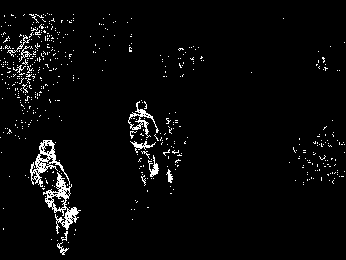person: (30, 139, 80, 256), (128, 99, 161, 187), (159, 113, 190, 195)
